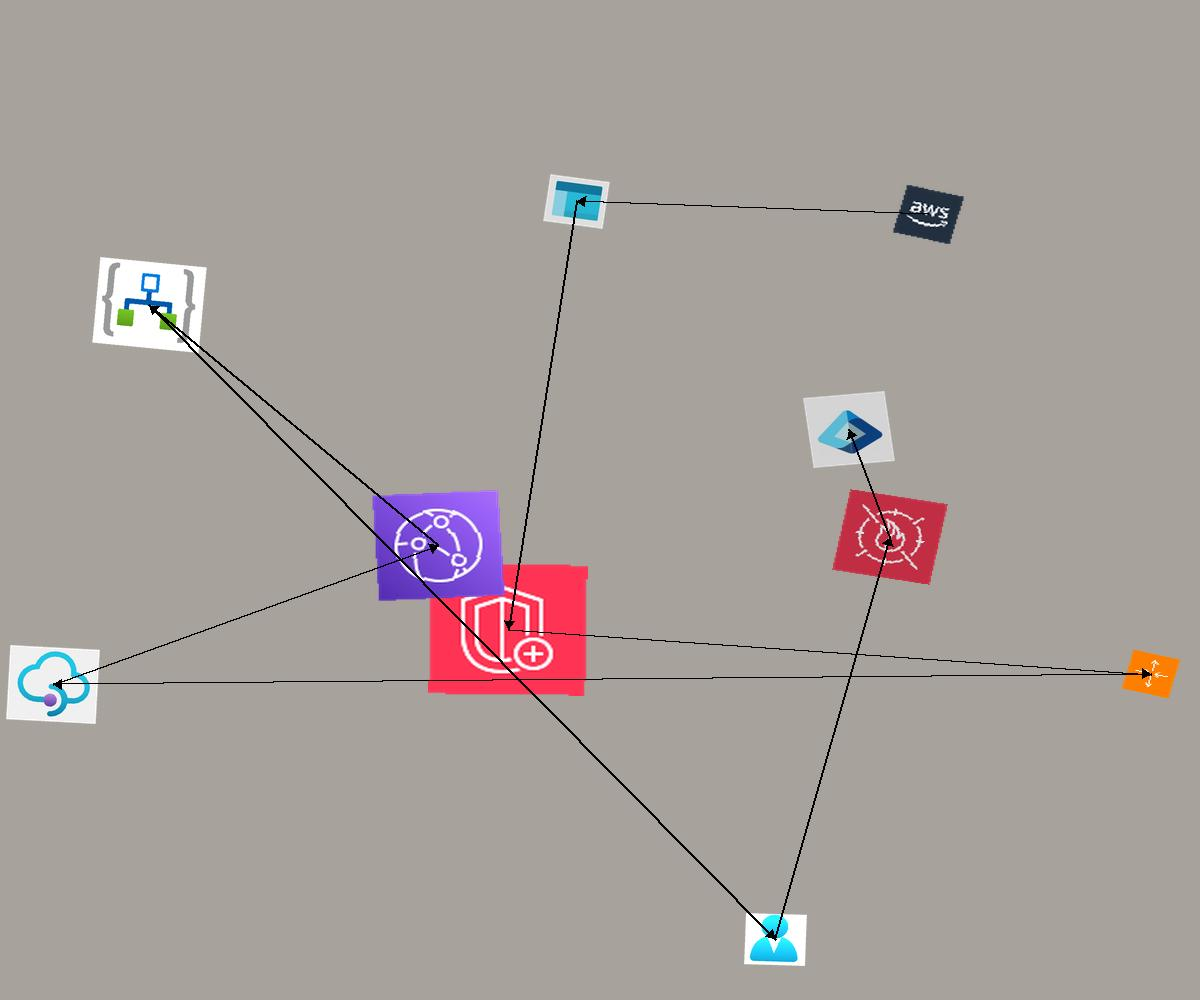AWS-Cloud-logo: (892, 184, 965, 245)
AWS-CloudFront: (371, 489, 506, 602)
AWS-Scaling-group: (1121, 649, 1181, 699)
AWS-Shield: (428, 563, 588, 696)
AWS-WAF: (832, 489, 948, 585)
Azure_api_gateway: (6, 645, 100, 724)
Azure_integration-204-Logic-Apps: (92, 257, 207, 353)
Azure_management-portal: (543, 174, 610, 229)
Azure_microsoft_entra: (803, 391, 895, 468)
Azure_users: (744, 913, 807, 966)
